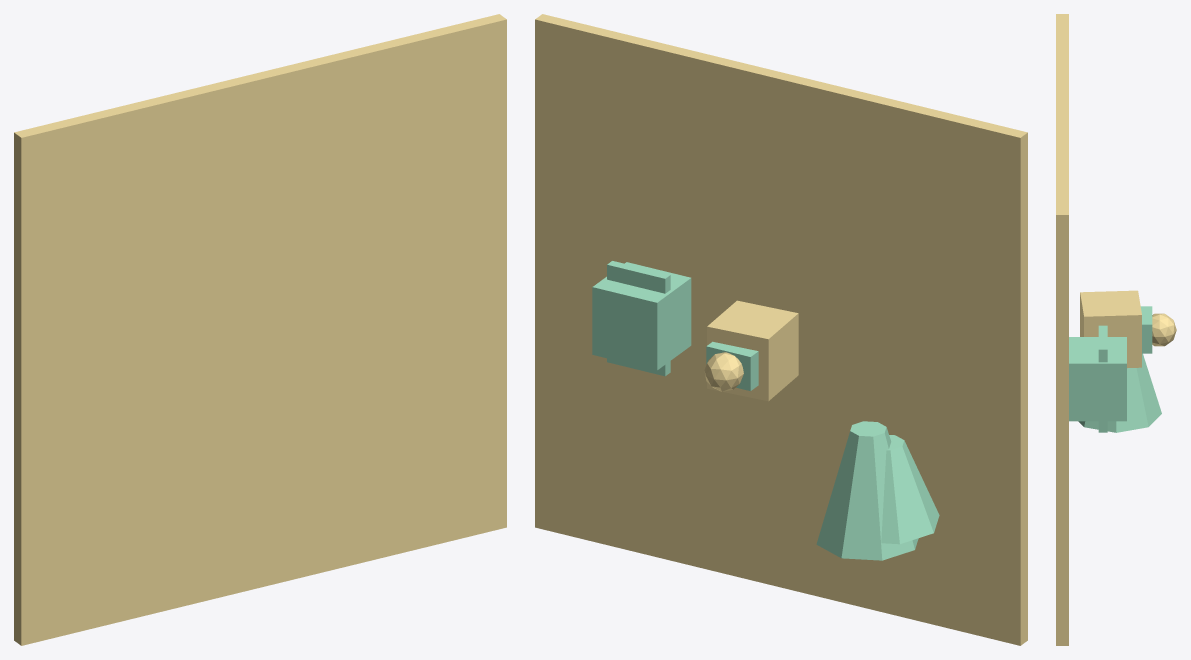
Rendered from circuit-forge-kit.glb.
The picture shows the model from 3 angles, left to right: view 1: azimuth 30°, elevation 25°; view 2: azimuth 150°, elevation 25°; view 3: azimuth 270°, elevation 25°; orthographic projection. The views are drawn at different scales.
Parts seen in each view (by area): view 1: ENVIRONMENT_GROUND; view 2: ENVIRONMENT_GROUND, OBSTACLE, PROFILE_ENVIRONMENT_DETAIL, PLAYER_BODY, ENVIRONMENT_LANDMARK, PROFILE_OBSTACLE_DETAIL, PROFILE_PLAYER_HEAD, PROFILE_PLAYER_DETAIL; view 3: ENVIRONMENT_GROUND, OBSTACLE, PLAYER_BODY, PROFILE_ENVIRONMENT_DETAIL, PROFILE_PLAYER_HEAD, PROFILE_PLAYER_DETAIL, PROFILE_OBSTACLE_DETAIL.
Boxes of the visible parts, x1,y1,x2,y2 form: ENVIRONMENT_GROUND: (14,14,506,645); ENVIRONMENT_GROUND: (535,14,1027,645); OBSTACLE: (592,262,691,370); PROFILE_ENVIRONMENT_DETAIL: (816,421,918,560); PLAYER_BODY: (707,300,798,401); ENVIRONMENT_LANDMARK: (881,435,939,544); PROFILE_OBSTACLE_DETAIL: (607,261,670,376); PROFILE_PLAYER_HEAD: (704,352,743,391); PROFILE_PLAYER_DETAIL: (706,341,758,390); ENVIRONMENT_GROUND: (1056,14,1068,645); OBSTACLE: (1069,337,1126,421); PLAYER_BODY: (1080,290,1141,368); PROFILE_ENVIRONMENT_DETAIL: (1078,353,1161,432); PROFILE_PLAYER_HEAD: (1152,313,1176,346); PROFILE_PLAYER_DETAIL: (1140,306,1152,353); PROFILE_OBSTACLE_DETAIL: (1098,325,1107,432).
Bounding box in the file's own units: 9 × 9 × 2.28.
